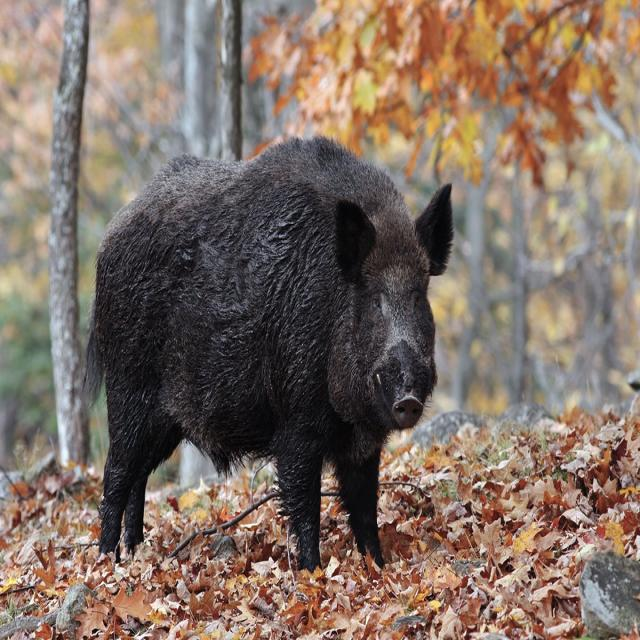Boar: (92, 132, 462, 543)
